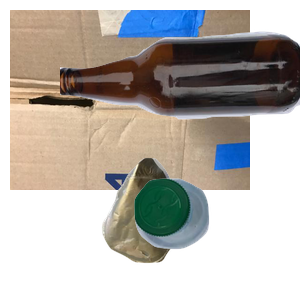cardboard: (10, 10, 250, 190)
glass: (60, 29, 300, 141)
plastic: (132, 176, 300, 300)
trash: (99, 155, 268, 300)
